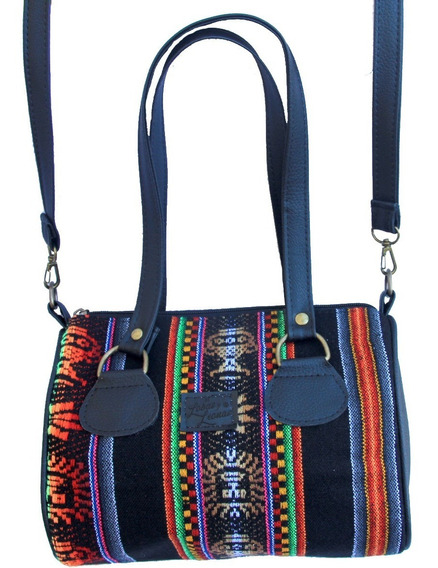cartera: (39, 14, 413, 567)
